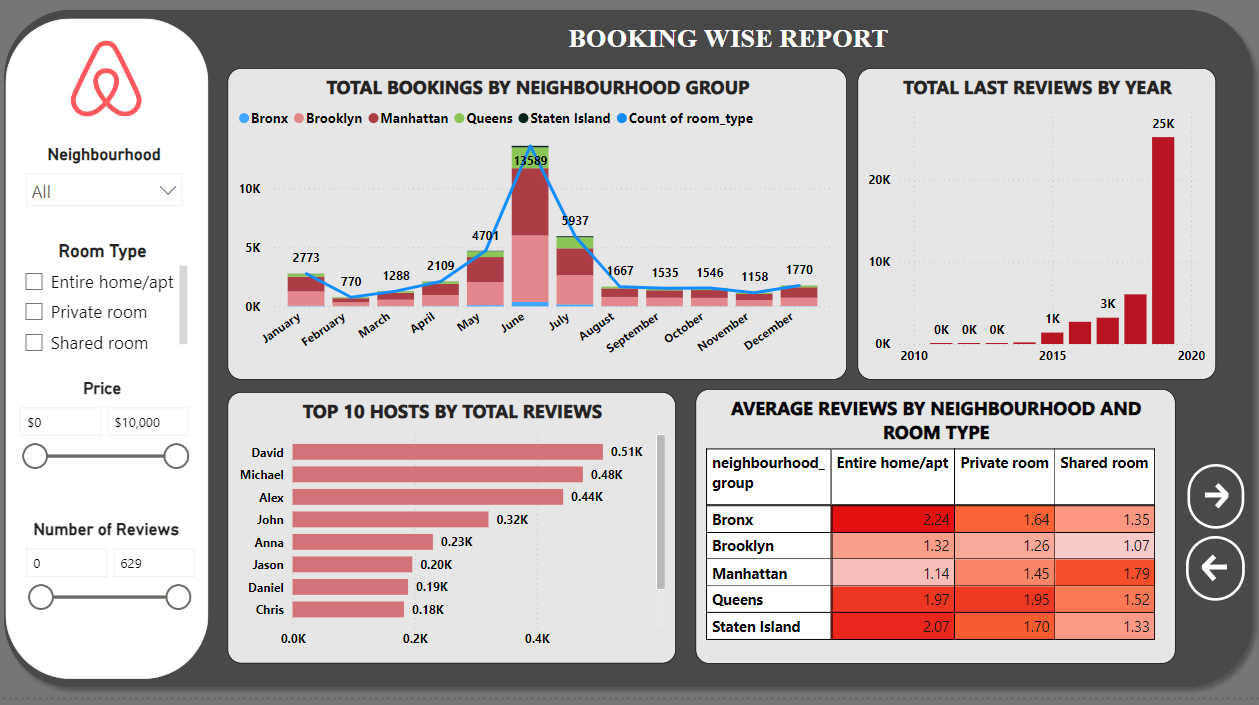

The dashboard page shown, as its layout file describes it:
{"tool":"powerbi","page":{"name":"Page 2","canvas":[1280,720],"ordinal":1},"visuals":[{"type":"shape","box":[0,16.7,1279.5,702.6],"z":0},{"type":"shape","box":[10.1,35,204.9,666.7],"z":1000,"group":"g1"},{"type":"clusteredColumnChart","title":"TOTAL LAST REVIEWS BY YEAR","fields":{"Category":["AB_NYC_2019.last_review.Variation.Date Hierarchy.Year"],"Y":["AB_NYC_2019.number_of_reviews"]},"box":[870.7,84.8,361.9,315],"z":1000},{"type":"image","box":[53.6,51.6,116.2,87.9],"z":2000,"group":"g1"},{"type":"lineStackedColumnComboChart","title":"TOTAL BOOKINGS BY NEIGHBOURHOOD GROUP","fields":{"Y":["AB_NYC_2019.host_id"],"Category":["AB_NYC_2019.last_review.Variation.Date Hierarchy.Month"],"Series":["AB_NYC_2019.neighbourhood_group"],"Y2":["AB_NYC_2019.room_type"]},"box":[234.7,84.8,625.4,315],"z":2000},{"type":"slicer","title":"Neighbourhood","fields":{"Values":["AB_NYC_2019.neighbourhood_group"]},"box":[21.3,162.1,177.8,84.8],"z":3000,"group":"g1"},{"type":"barChart","title":"TOP 10 HOSTS BY TOTAL REVIEWS","fields":{"Y":["AB_NYC_2019.reviews_per_month"],"Category":["AB_NYC_2019.host_name"]},"box":[234.7,411.9,452.7,274.1],"z":3000},{"type":"slicer","title":"Room Type","fields":{"Values":["AB_NYC_2019.room_type"]},"box":[18.1,258.6,181,121.3],"z":4000,"group":"g1"},{"type":"actionButton","box":[1203.8,484.5,57.5,65.1],"z":4000},{"type":"slicer","title":"Price","fields":{"Values":["AB_NYC_2019.price"]},"box":[11.7,398.9,192.2,100.9],"z":5000,"group":"g1"},{"type":"actionButton","box":[1202.3,557.2,59.1,65.1],"z":5000},{"type":"group","id":"g1","title":"Group 1","box":[10.1,35,204.9,666.7],"z":6000},{"type":"slicer","title":"Number of Reviews","fields":{"Values":["AB_NYC_2019.number_of_reviews"]},"box":[17.2,540,188.3,101.7],"z":6000,"group":"g1"},{"type":"pivotTable","title":"AVERAGE REVIEWS BY NEIGHBOURHOOD AND ROOM TYPE","fields":{"Values":["AB_NYC_2019.reviews_per_month"],"Columns":["AB_NYC_2019.room_type"],"Rows":["AB_NYC_2019.neighbourhood_group"]},"box":[707.1,408.8,484.5,277.1],"z":7000},{"type":"textbox","box":[234.7,33.3,967.6,51.5],"z":8000}]}

Visuals, with their boxes in screenshot pixels (x1, y1, x2, y2), scaled from the page's 1280x720 canvas onto the 1259x705 screenshot:
shape: region(0, 16, 1258, 704)
shape: region(10, 34, 211, 687)
"TOTAL LAST REVIEWS BY YEAR" clusteredColumnChart: region(856, 83, 1212, 391)
image: region(53, 51, 167, 137)
"TOTAL BOOKINGS BY NEIGHBOURHOOD GROUP" lineStackedColumnComboChart: region(231, 83, 846, 391)
"Neighbourhood" slicer: region(21, 159, 196, 242)
"TOP 10 HOSTS BY TOTAL REVIEWS" barChart: region(231, 403, 676, 672)
"Room Type" slicer: region(18, 253, 196, 372)
actionButton: region(1184, 474, 1241, 538)
"Price" slicer: region(12, 391, 201, 489)
actionButton: region(1183, 546, 1241, 609)
"Group 1" group: region(10, 34, 211, 687)
"Number of Reviews" slicer: region(17, 529, 202, 628)
"AVERAGE REVIEWS BY NEIGHBOURHOOD AND ROOM TYPE" pivotTable: region(695, 400, 1172, 672)
textbox: region(231, 33, 1183, 83)
